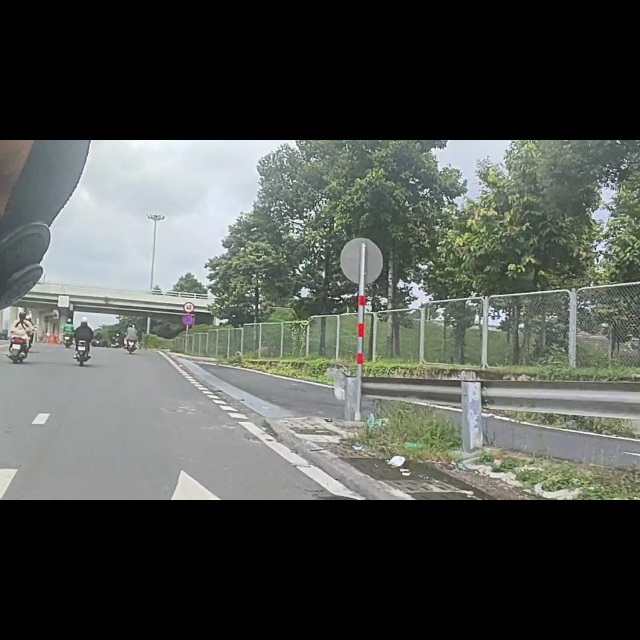bien_cam: (183, 309, 195, 329), (183, 288, 195, 306)
